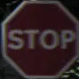Stop: (6, 1, 74, 72)
